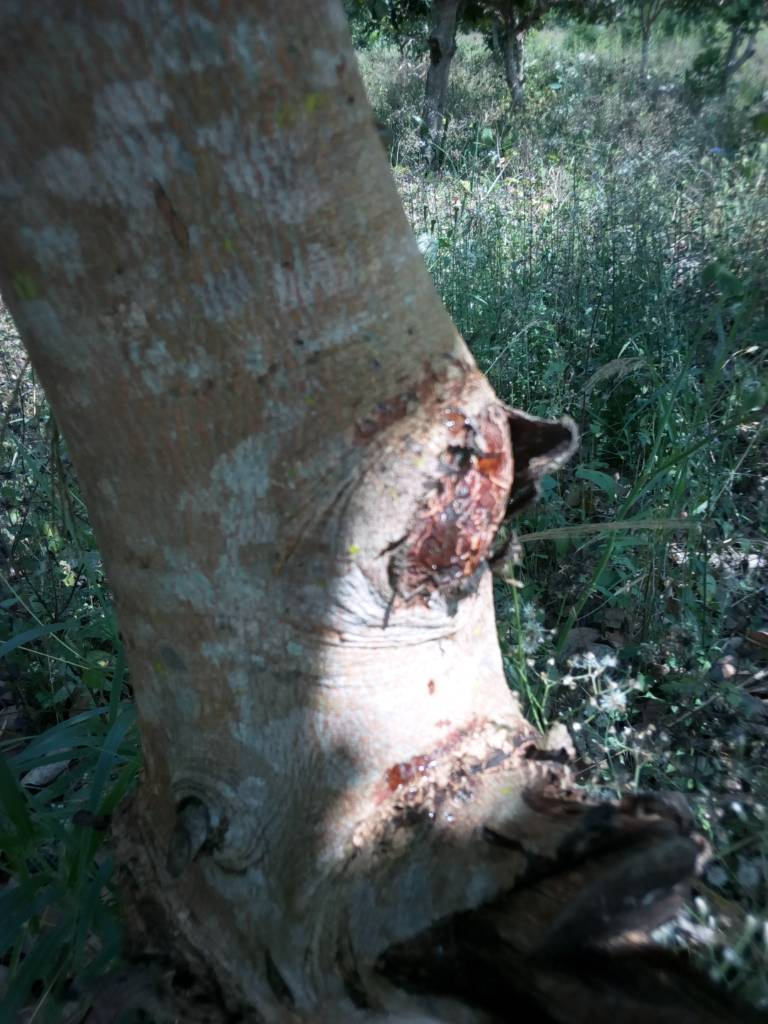Gommose: (357, 389, 511, 592), (374, 742, 510, 782)
